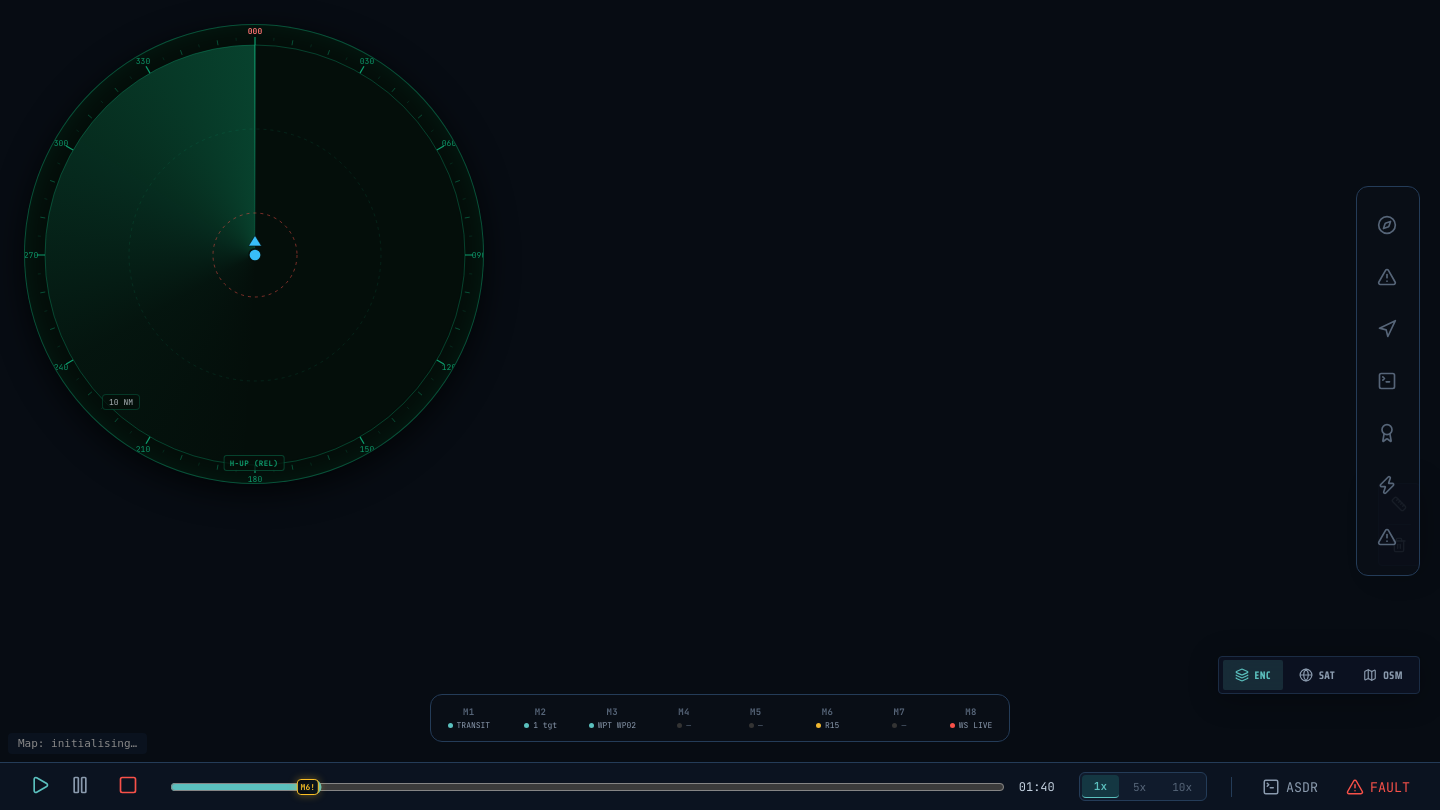
it: SimulationMonitor › displays L2 实时系统 when L2 voyagePlan telemetry is active and updates badge dynamically
Click the button with test id "right-tab-ship": click(1388, 225) x1=1366 y1=203 x2=1410 y2=247
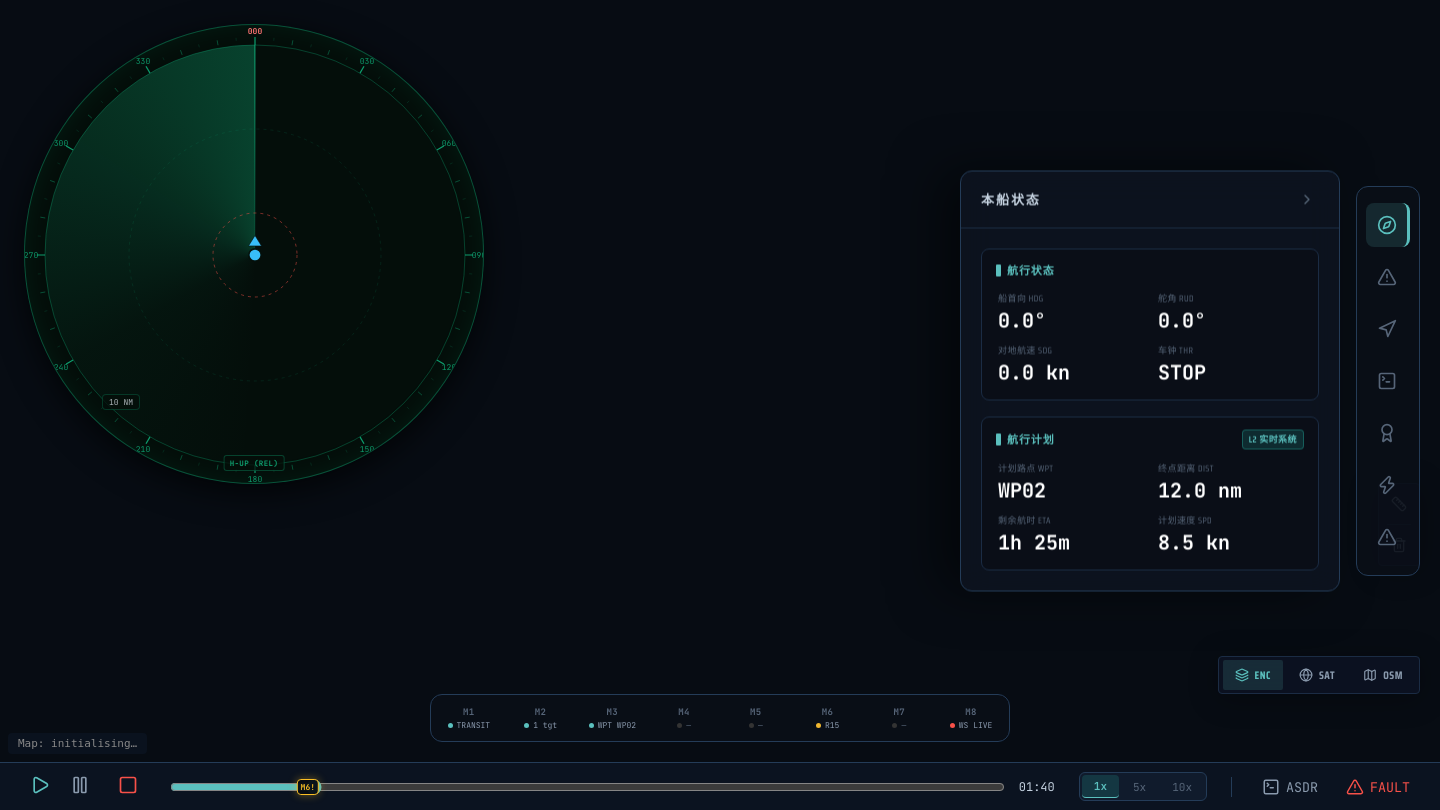
Expected: the text "L2 实时系统" is shown, x1=1242 y1=430 x2=1304 y2=450
Expected: the text "8.5 kn" is shown, x1=1158 y1=530 x2=1230 y2=556
Expected: the text "WP02" is shown, x1=998 y1=478 x2=1046 y2=504
